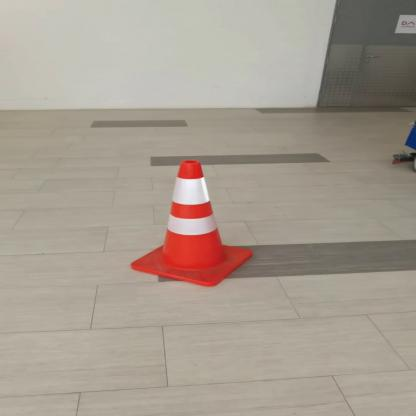cone: (120, 152, 265, 288)
